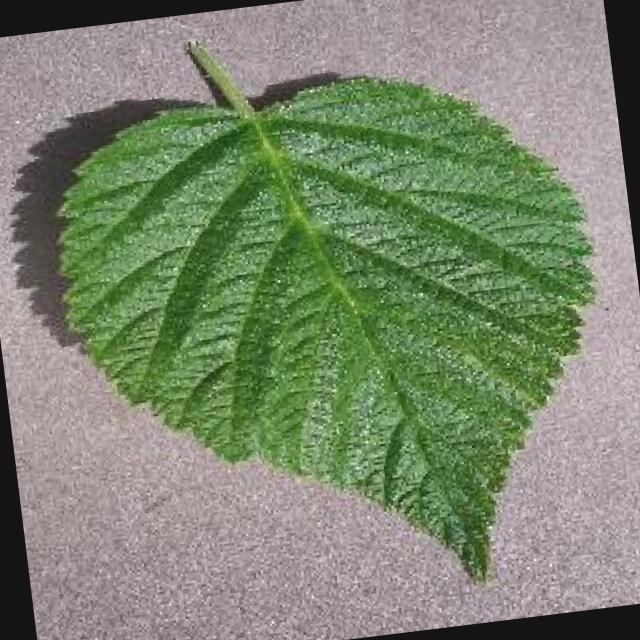healthy: (63, 46, 592, 580)
